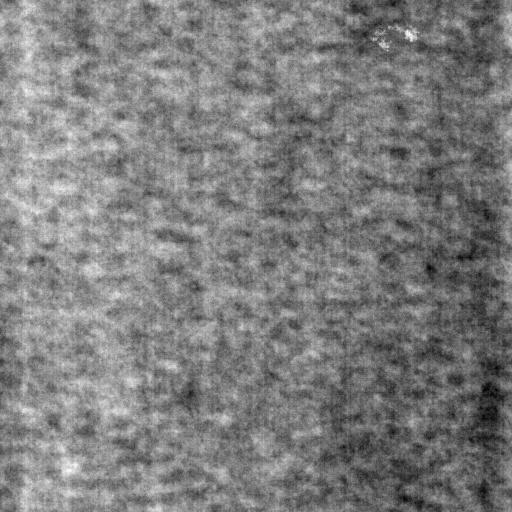DefectTypeA: (371, 18, 421, 53)
